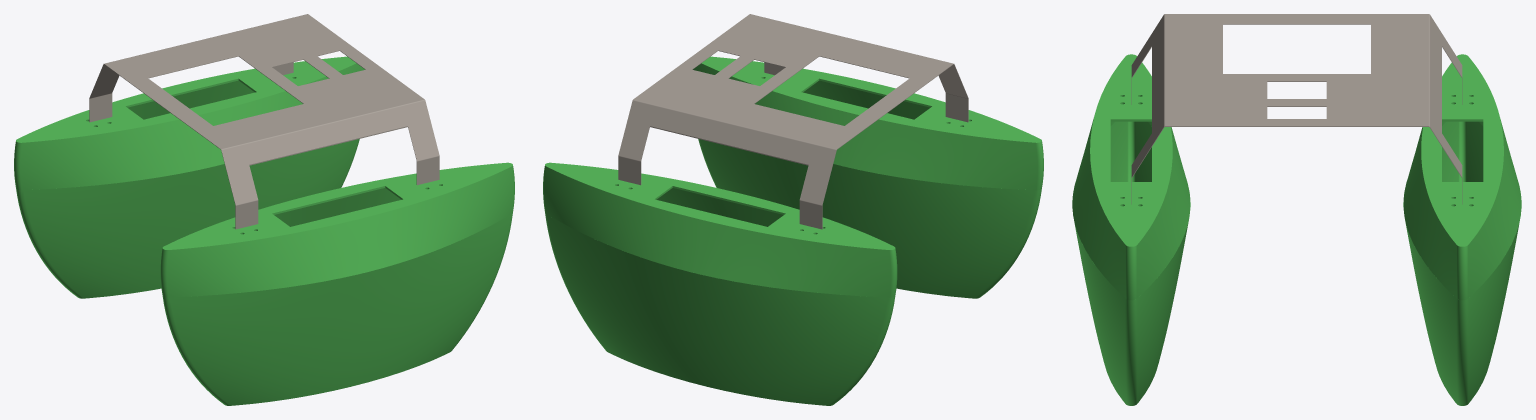
The model's file is WCR_4.gltf.
3 renders of one model, left to right at view 1: azimuth 30°, elevation 25°; view 2: azimuth 150°, elevation 25°; view 3: azimuth 270°, elevation 25°, orthographic. The views are drawn at different scales.
Parts seen in each view (by area): view 1: color, matte steel; view 2: color, matte steel; view 3: color, matte steel.
Part boxes in pixels (box(x1,y1,x2,y2)): color: box(14, 56, 514, 405); matte steel: box(89, 14, 439, 229); color: box(543, 56, 1043, 405); matte steel: box(618, 14, 968, 229); color: box(1072, 54, 1521, 405); matte steel: box(1131, 14, 1462, 204).
Size of the model in its own units: 0.7787 by 0.51 by 0.76.
